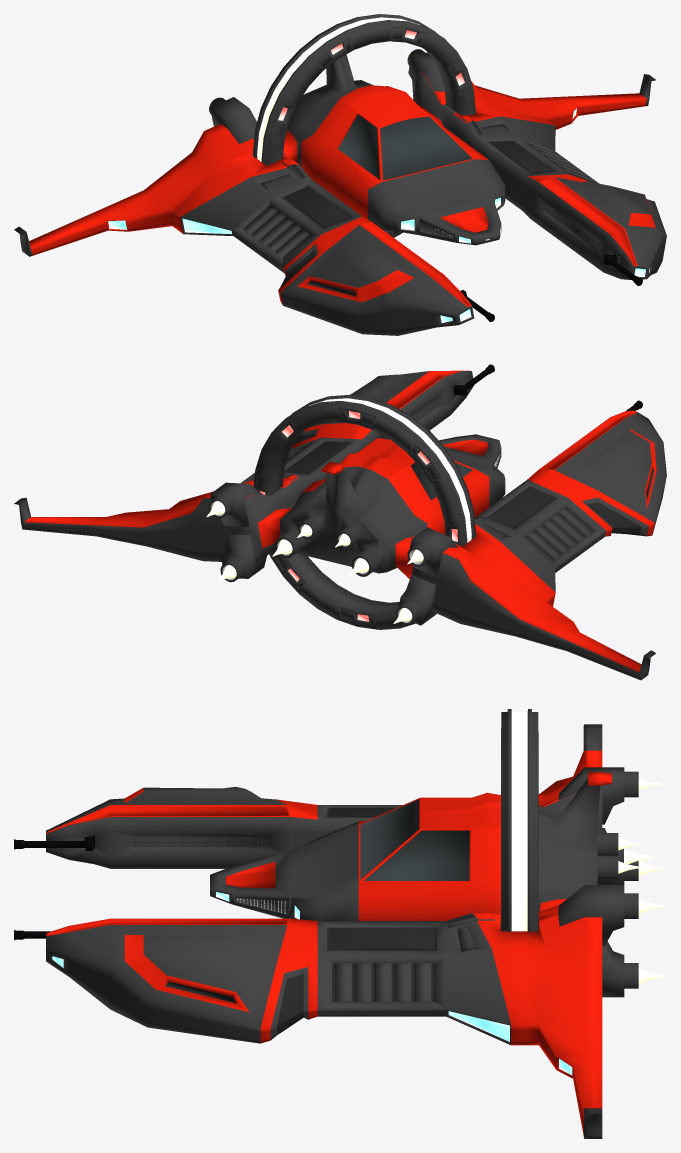
Rendered from SpaceFighter.glb.
3 renders of one model, top to bottom at view 1: azimuth 30°, elevation 25°; view 2: azimuth 150°, elevation 25°; view 3: azimuth 270°, elevation 25°, orthographic. The views are drawn at different scales.
Parts seen in each view (by area): view 1: SpaceFighter, Outside, InsideR; view 2: SpaceFighter, Outside, InsideR, Booster; view 3: SpaceFighter, Outside, Booster.
Boxes of the visible parts, box(x1,y1,x2,y2) form: SpaceFighter: box(14, 49, 666, 335); Outside: box(253, 14, 475, 237); InsideR: box(273, 28, 470, 234); SpaceFighter: box(14, 364, 666, 680); Outside: box(253, 395, 475, 629); InsideR: box(256, 409, 458, 626); Booster: box(206, 501, 423, 623); SpaceFighter: box(14, 724, 638, 1138); Outside: box(501, 709, 538, 931); Booster: box(618, 778, 666, 983).
Size of the model in its own units: 289 by 96.48 by 205.
